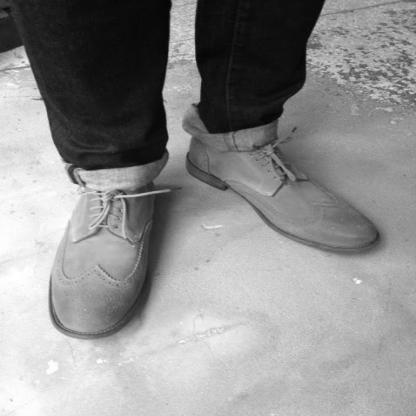ankle: (126, 190, 130, 195), (220, 150, 225, 153)
heel: (189, 155, 194, 158), (150, 188, 154, 190)
left_foot: (185, 102, 383, 251)
pinky: (364, 219, 368, 223), (56, 304, 60, 307)
right_foot: (50, 159, 156, 341)
toe: (332, 238, 337, 241), (117, 319, 122, 322)
